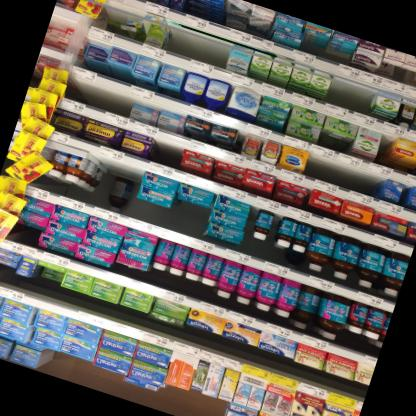empty_space: (303, 150, 386, 198), (66, 74, 137, 121), (163, 27, 232, 74), (96, 160, 145, 213), (324, 75, 377, 114), (152, 135, 187, 170)
